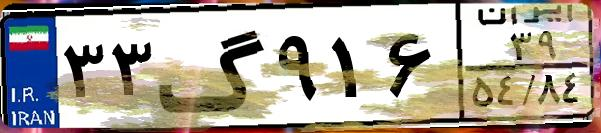1: (330, 28, 385, 110)
3: (57, 26, 110, 100), (110, 28, 156, 98), (508, 27, 537, 80)
4: (560, 70, 590, 125), (495, 70, 520, 125)
5: (470, 70, 495, 125)
6: (385, 28, 445, 110)
8: (535, 70, 560, 125)
9: (270, 28, 330, 110), (537, 27, 568, 80)
گ: (156, 12, 270, 120)
